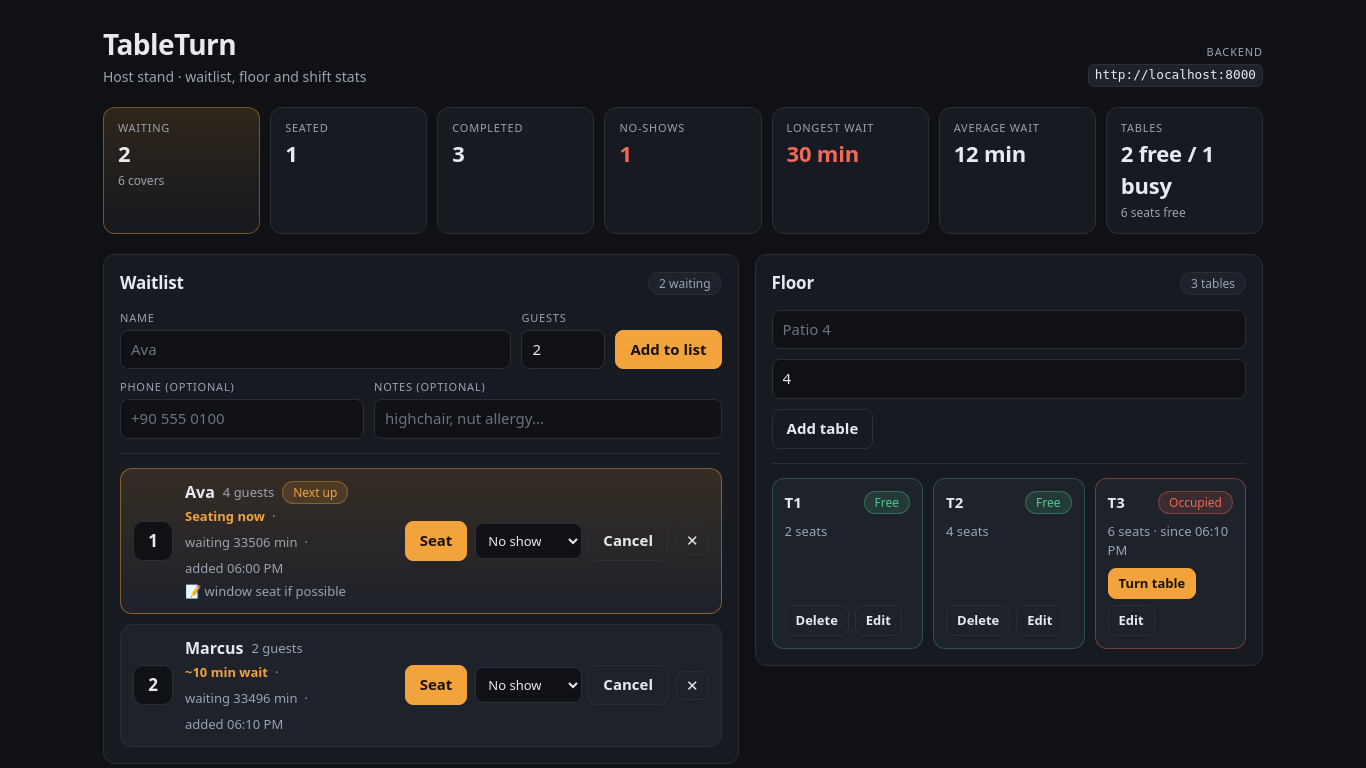
it: App › shows the server's message when a mutation fails
Click the button "Cancel" below "Next up" at point(628, 541), box top-left (588, 521), bottom-right (668, 561)
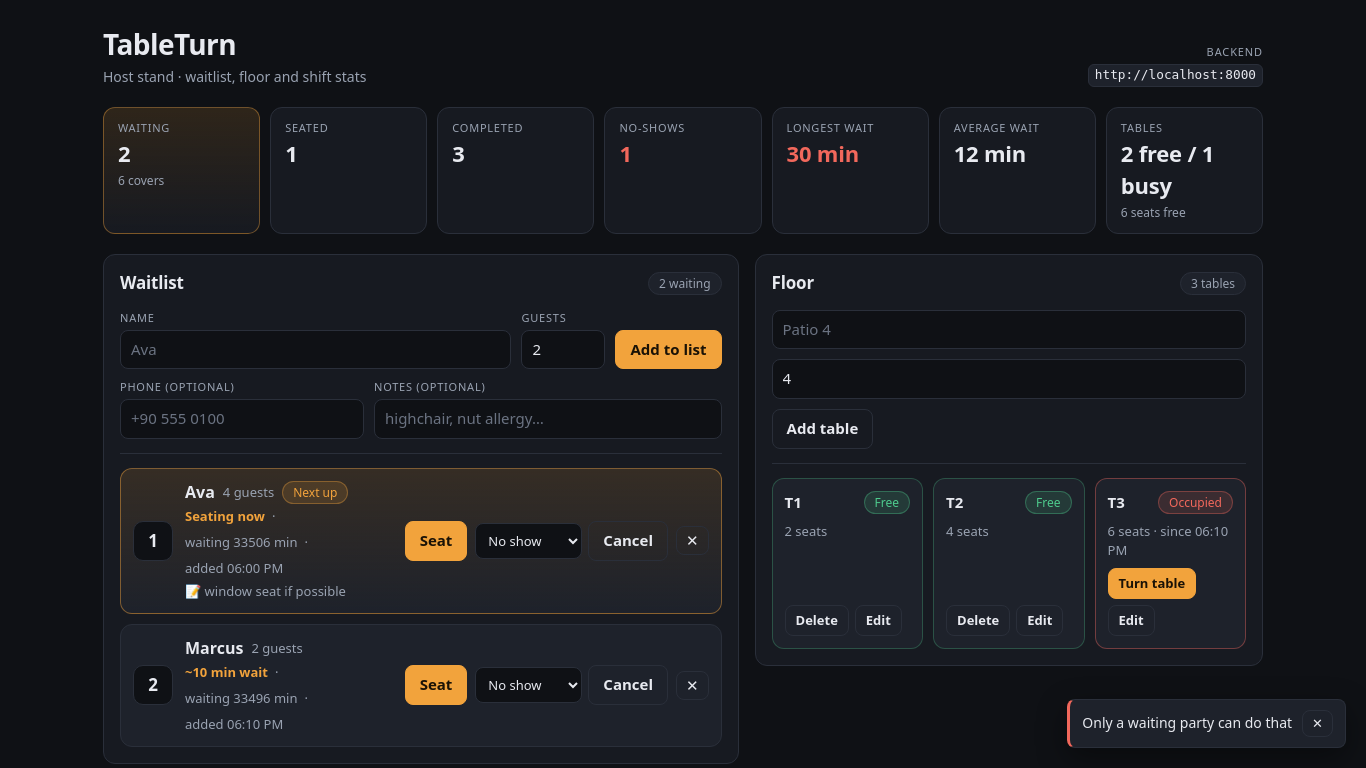
Expected: the message with test id "toast" shows "Only a waiting party can do that", top-left (1082, 713), bottom-right (1292, 732)
